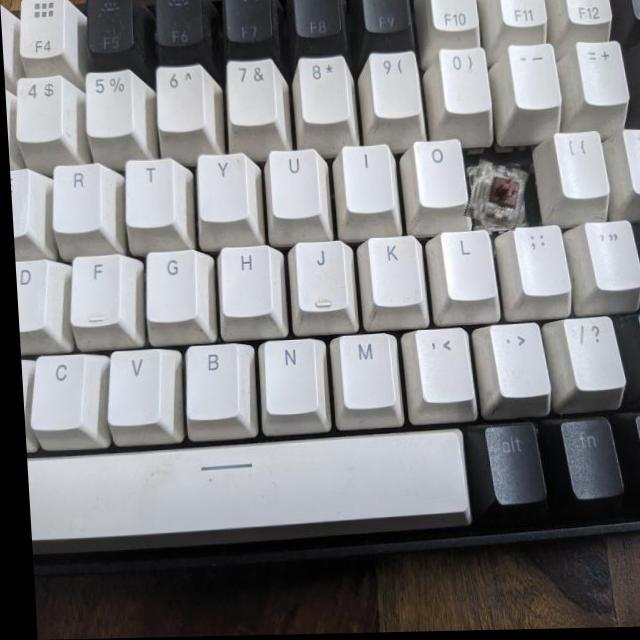key-switch: (462, 158, 527, 231)
